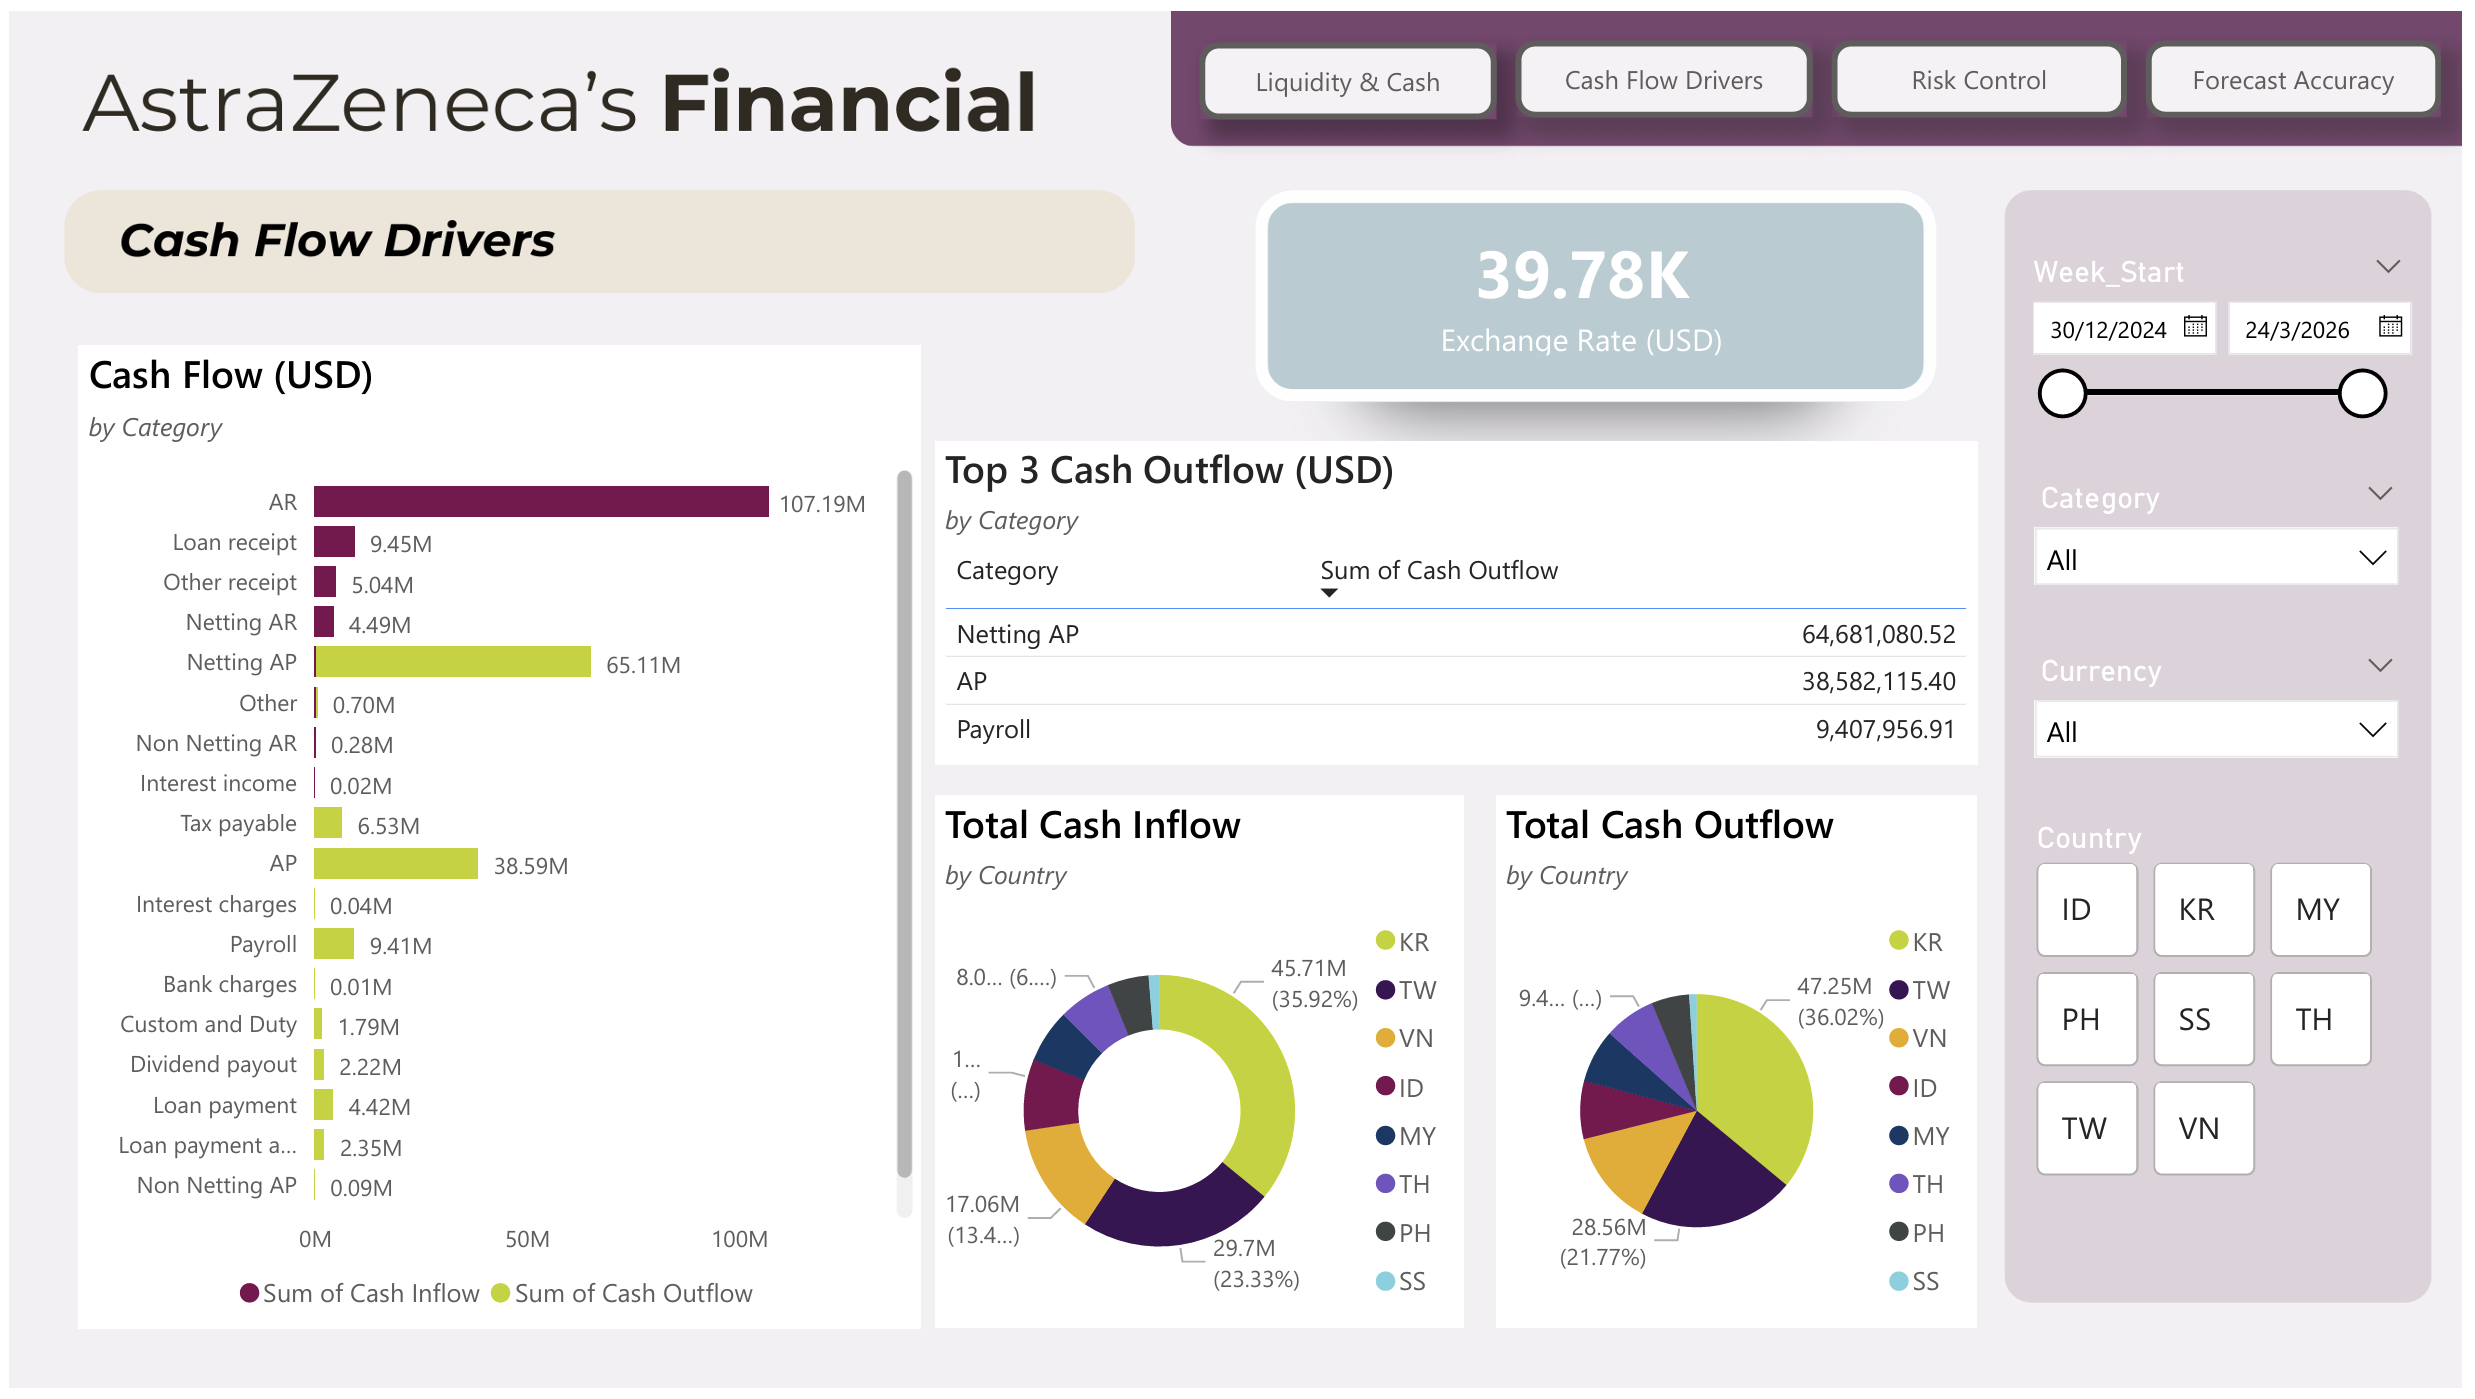

What the dashboard file says about the page in this screenshot:
{"tool":"powerbi","page":{"name":"2 - Cash Flow Drivers","canvas":[1280,720],"ordinal":1},"visuals":[{"type":"actionButton","title":"Liquidity & Cash","box":[621.4,15.7,154.3,40],"z":0},{"type":"actionButton","title":"Liquidity & Cash","box":[786.4,15,154.3,40],"z":1000},{"type":"actionButton","title":"Liquidity & Cash","box":[950.7,15,154.3,40],"z":2000},{"type":"actionButton","title":"Liquidity & Cash","box":[1115,15,154.3,40],"z":3000},{"type":"cardVisual","fields":{"Data":["Sum(Dim - Branch.Exchange Rate (USD))"]},"box":[640,95.7,361.4,100],"z":4000},{"type":"slicer","title":"Date","fields":{"Values":["Dim - DateTable.Week_Start"]},"box":[1047.1,120,210,150],"z":5000},{"type":"slicer","fields":{"Values":["Dim - Category.Category"]},"box":[1047.1,238.6,210,64.3],"z":6000},{"type":"slicer","fields":{"Values":["Dim - Branch.Currency"]},"box":[1047.1,328.6,210,64.3],"z":7000},{"type":"advancedSlicerVisual","title":"Country ","fields":{"Values":["Dim - Branch.Country Code"]},"box":[1052.9,421.4,185.7,192.9],"z":8000},{"type":"barChart","title":" Cash Flow (USD)","fields":{"Category":["Fact - Transactions.Category"],"Y":["Sum(Fact - Transactions.Cash_In_USD)","Sum(Fact - Transactions.Cash_Out_USD)"]},"box":[35.7,174.3,440,512.9],"z":9000},{"type":"tableEx","title":"Top 3 Cash Outflow (USD)","fields":{"Values":["Fact - Transactions.Category","Sum(Fact - Transactions.Cash_Out_USD)"]},"box":[482.9,224.3,544.3,168.6],"z":10000},{"type":"donutChart","title":"Total Cash Inflow","fields":{"Y":["Fact - Transactions.Total Cash In"],"Category":["Dim - Branch.Country Code"]},"box":[482.9,408.6,275.7,278.6],"z":11000},{"type":"pieChart","title":"Total Cash Outflow","fields":{"Y":["Fact - Transactions.Total Cash Out"],"Category":["Dim - Branch.Country Code"]},"box":[775.7,408.6,251.4,278.6],"z":12000}]}

Visuals, with their boxes in screenshot pixels (x1, y1, x2, y2), scaled from the page's 1280x720 canvas onto the 2475x1399 screenshot:
"Liquidity & Cash" actionButton: [1202, 31, 1500, 108]
"Liquidity & Cash" actionButton: [1521, 29, 1819, 107]
"Liquidity & Cash" actionButton: [1838, 29, 2137, 107]
"Liquidity & Cash" actionButton: [2156, 29, 2454, 107]
cardVisual - Sum(Dim - Branch.Exchange Rate (USD)): [1238, 186, 1936, 380]
"Date" slicer: [2025, 233, 2431, 525]
slicer - Dim - Category.Category: [2025, 464, 2431, 589]
slicer - Dim - Branch.Currency: [2025, 638, 2431, 763]
"Country " advancedSlicerVisual: [2036, 819, 2395, 1194]
" Cash Flow (USD)" barChart: [69, 339, 920, 1335]
"Top 3 Cash Outflow (USD)" tableEx: [934, 436, 1986, 763]
"Total Cash Inflow" donutChart: [934, 794, 1467, 1335]
"Total Cash Outflow" pieChart: [1500, 794, 1986, 1335]
